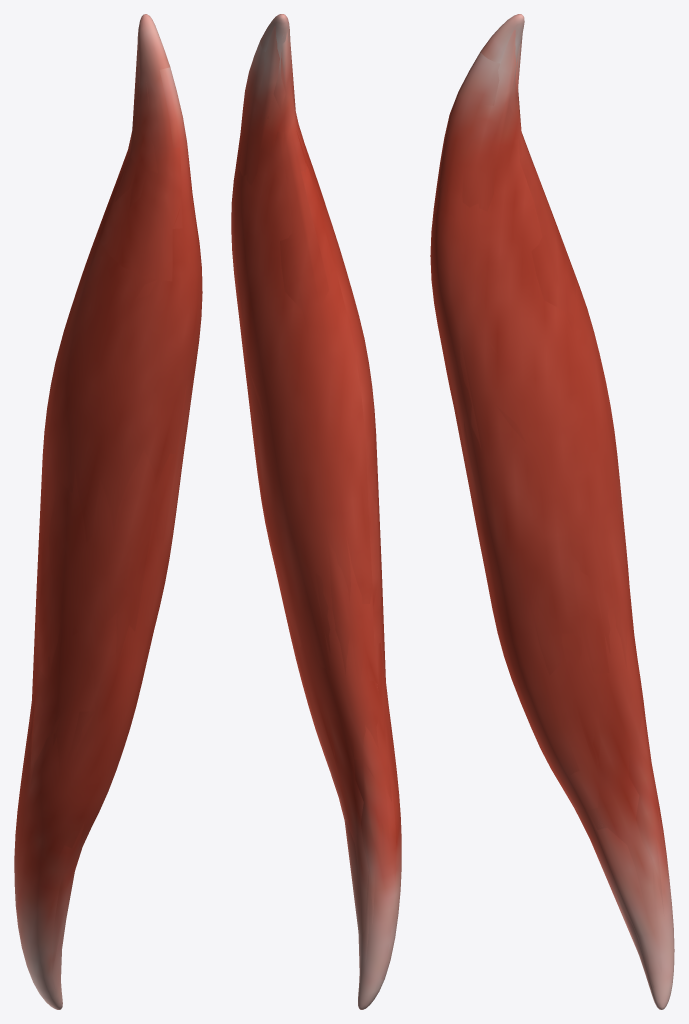
Rendered from L flexor carpi radialis.fbx.
3 views of the same model, side by side, from view 1: azimuth 30°, elevation 25°; view 2: azimuth 210°, elevation 25°; view 3: azimuth 270°, elevation 25° (orthographic). The views are drawn at different scales.
Parts seen in each view (by area): view 1: L flexor carpi radialis, L flexor carpi radialis low; view 2: L flexor carpi radialis, L flexor carpi radialis low; view 3: L flexor carpi radialis, L flexor carpi radialis low.
Part boxes in pixels (box(x1,y1,x2,y2)): L flexor carpi radialis: box(14, 14, 202, 1009); L flexor carpi radialis low: box(28, 42, 199, 989); L flexor carpi radialis: box(231, 14, 401, 1009); L flexor carpi radialis low: box(236, 26, 397, 983); L flexor carpi radialis: box(430, 14, 674, 1009); L flexor carpi radialis low: box(434, 29, 664, 987).
Bounding box in the file's own units: 4.58 × 46.2 × 10.21.
